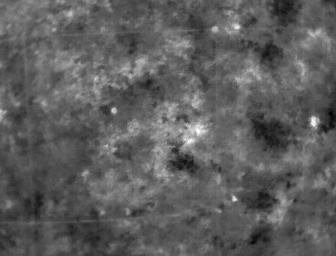landmine: (109, 105, 119, 115)
